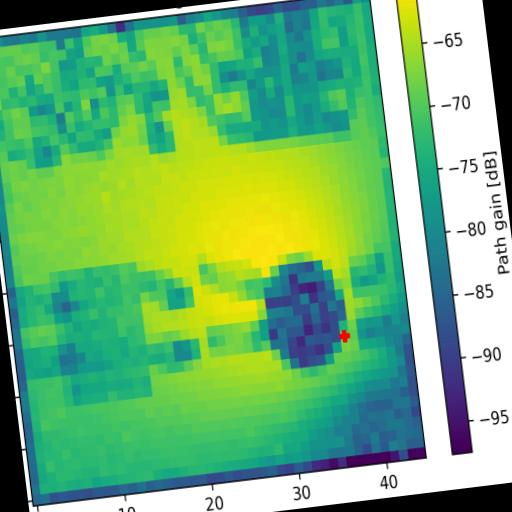Concrete: (240, 6, 350, 142)
Glass: (22, 30, 175, 168)
Metal: (260, 247, 353, 381)
Wood: (48, 262, 154, 406)
